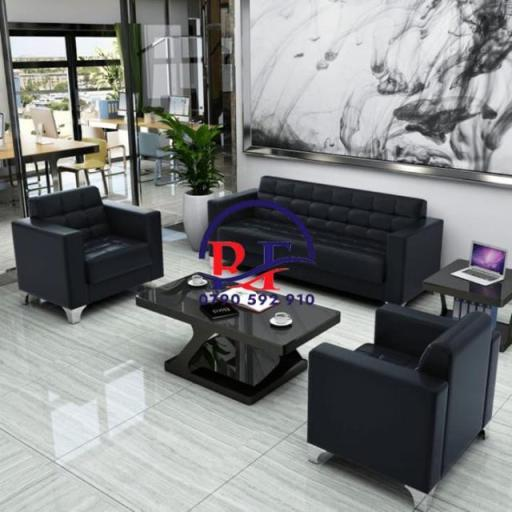sofa: (328, 312, 512, 500), (222, 170, 438, 312), (12, 171, 198, 326)
